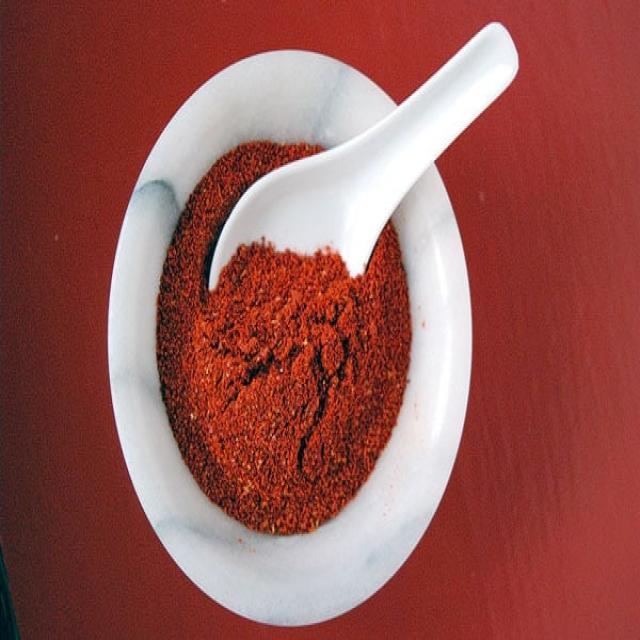Paprika: (69, 15, 570, 640), (200, 144, 390, 378), (226, 281, 354, 464)
